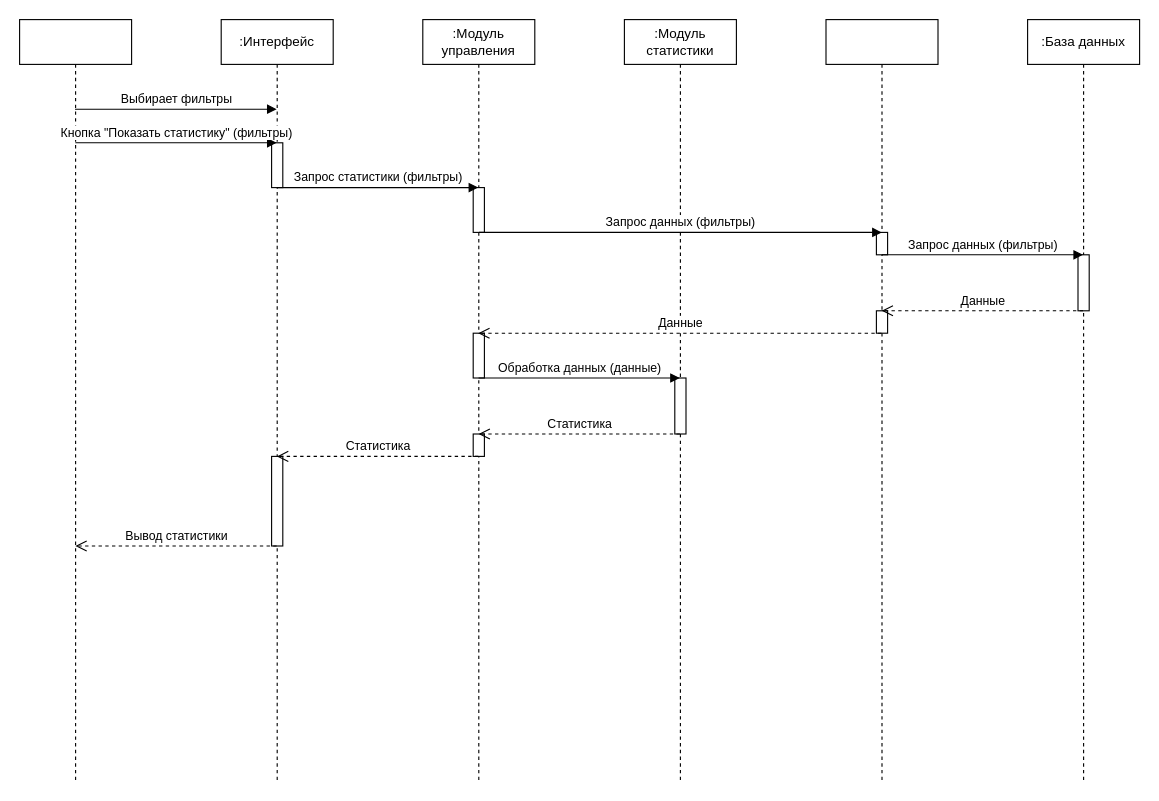
Image size: 1159x801. Some labels were removed from this diagram. Each missing label, with the box of its shape:
:API: (825, 18, 938, 781)
:Пользователь: (18, 18, 132, 781)
